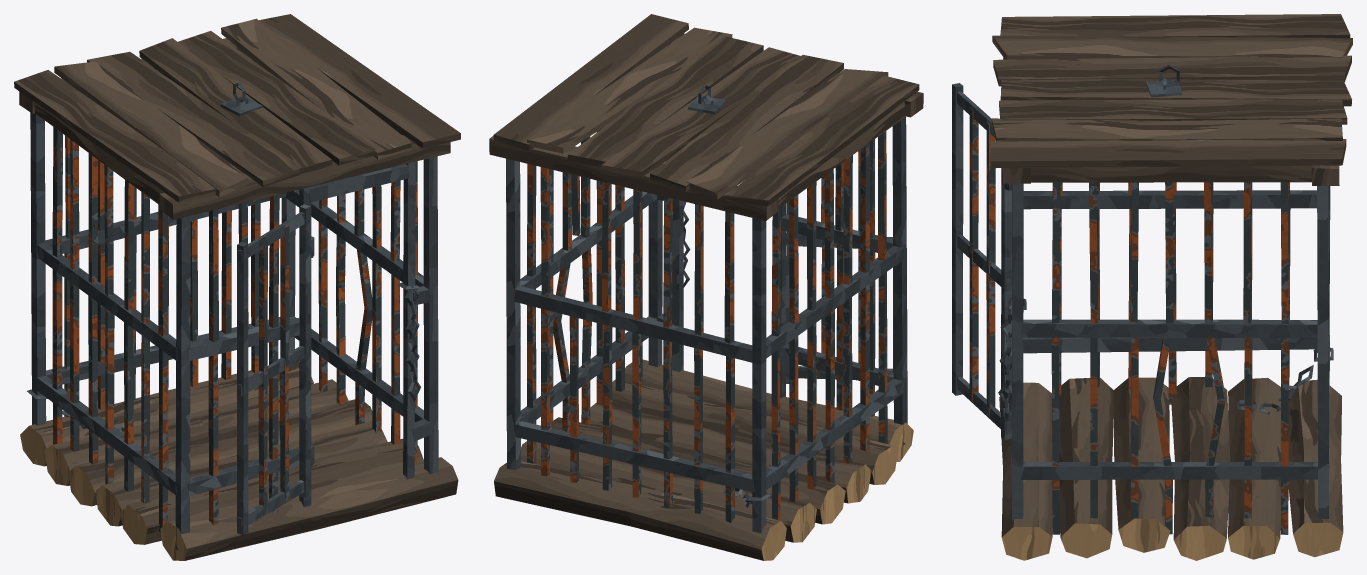
The model's file is SM_PrisonerCage.fbx.
The picture shows the model from 3 angles, left to right: view 1: azimuth 30°, elevation 25°; view 2: azimuth 150°, elevation 25°; view 3: azimuth 270°, elevation 25°; orthographic projection. The views are drawn at different scales.
Parts seen in each view (by area): view 1: SM_PrisonerCage; view 2: SM_PrisonerCage; view 3: SM_PrisonerCage.
Part boxes in pixels (box(x1,y1,x2,y2)): SM_PrisonerCage: box(14, 14, 460, 560); SM_PrisonerCage: box(489, 14, 923, 560); SM_PrisonerCage: box(952, 14, 1352, 560).
Size of the model in its own units: 1.66 by 2.2 by 1.89.
